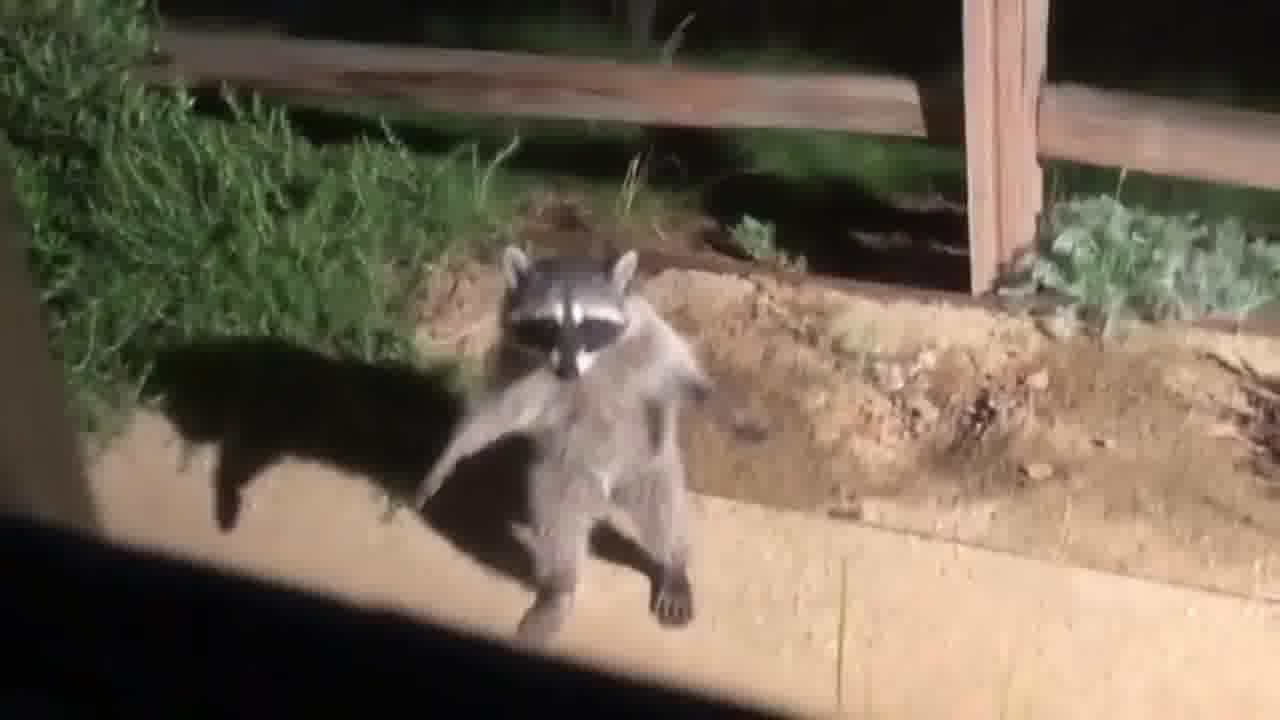raccoon: (395, 236, 778, 650)
